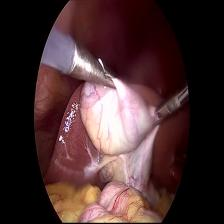Grasper: (143, 96, 175, 141)
